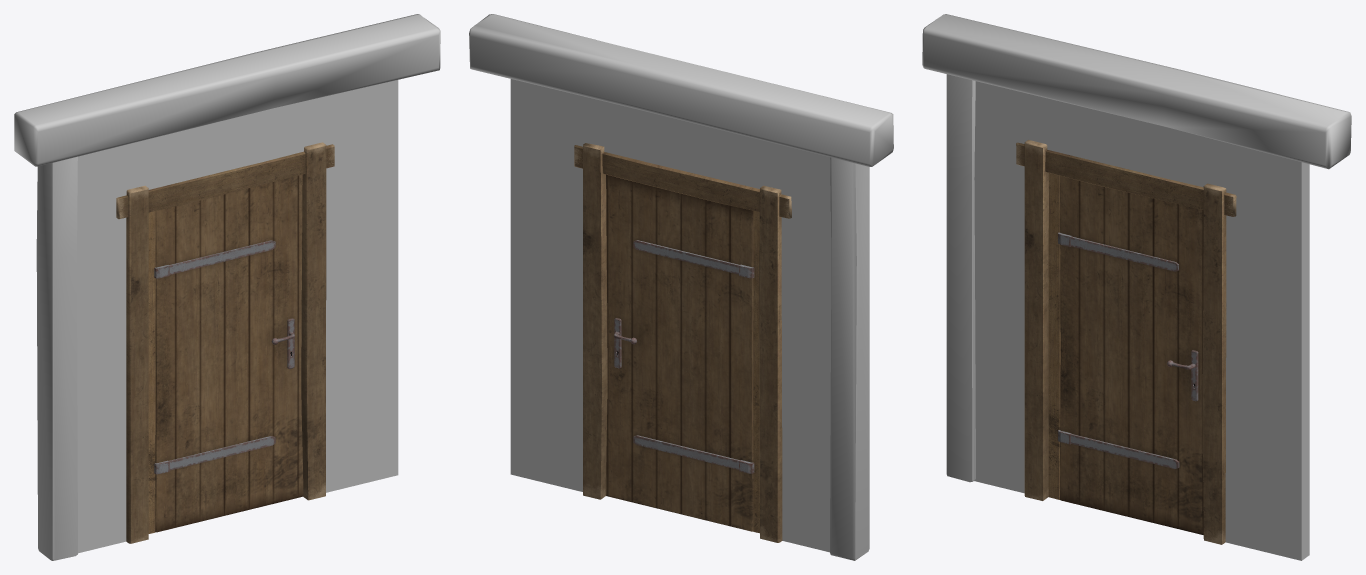
Rendered from SM_WallElement_11_LOD_01.FBX.
3 renders of one model, left to right at view 1: azimuth 30°, elevation 25°; view 2: azimuth 150°, elevation 25°; view 3: azimuth 330°, elevation 25°, orthographic.
Visible parts, largest first — view 1: SM_WallElement_11_LOD_01, SM_Door_01_LOD_01; view 2: SM_WallElement_11_LOD_01, SM_Door_01_LOD_01; view 3: SM_WallElement_11_LOD_01, SM_Door_01_LOD_01.
Boxes of the visible parts, left/top/right/bottom form: SM_WallElement_11_LOD_01: left=14, top=14, right=440, bottom=560; SM_Door_01_LOD_01: left=154, top=174, right=303, bottom=532; SM_WallElement_11_LOD_01: left=469, top=14, right=893, bottom=560; SM_Door_01_LOD_01: left=605, top=174, right=754, bottom=531; SM_WallElement_11_LOD_01: left=922, top=14, right=1351, bottom=560; SM_Door_01_LOD_01: left=1058, top=176, right=1203, bottom=534.
Size of the model in its own units: 3.01 by 3.15 by 0.3133.
